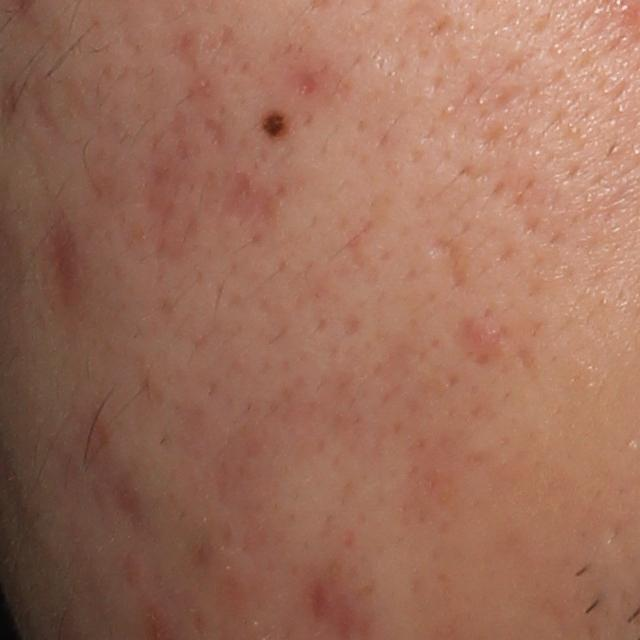atrophic_scar: (220, 167, 286, 234), (428, 236, 473, 301), (470, 116, 509, 158), (199, 22, 238, 54), (201, 114, 227, 147), (297, 70, 320, 95)
nevus: (261, 105, 290, 141)
papule: (473, 318, 505, 357)
